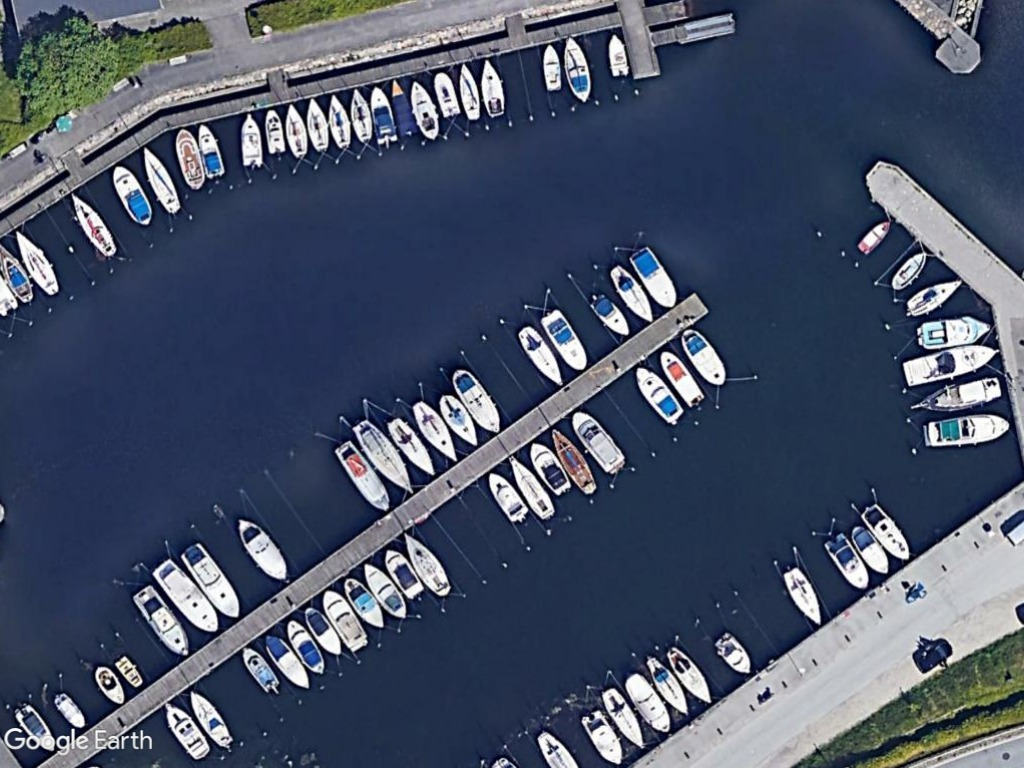boat: (149, 554, 223, 637), (175, 539, 245, 625), (128, 579, 195, 661), (350, 417, 417, 498), (896, 343, 1002, 390), (332, 440, 394, 515), (910, 372, 1008, 419), (234, 511, 294, 585), (447, 365, 506, 437), (398, 529, 454, 604), (568, 406, 625, 478), (408, 396, 465, 467), (66, 188, 121, 261), (503, 452, 558, 525), (544, 425, 599, 498), (317, 584, 373, 655), (857, 499, 916, 566), (536, 306, 593, 374), (621, 670, 677, 739), (382, 415, 441, 480), (11, 226, 63, 298), (919, 412, 1015, 451), (514, 323, 568, 392), (676, 323, 732, 388), (627, 244, 681, 311), (663, 642, 716, 709), (655, 342, 707, 410), (181, 685, 235, 750), (357, 557, 411, 622), (630, 363, 684, 428), (605, 259, 657, 326), (818, 528, 871, 593), (597, 687, 649, 753), (260, 629, 314, 692), (915, 312, 994, 354), (140, 143, 184, 218), (643, 653, 691, 719), (160, 702, 211, 764), (779, 564, 826, 631), (525, 441, 575, 501), (109, 161, 154, 227), (902, 274, 965, 321), (378, 540, 425, 602), (577, 708, 625, 768), (434, 391, 481, 452), (282, 614, 328, 676), (848, 518, 892, 581), (482, 467, 530, 524), (560, 31, 595, 109), (299, 603, 345, 662), (341, 571, 386, 631), (174, 124, 209, 194), (586, 290, 633, 340), (408, 77, 444, 142), (238, 645, 281, 695), (477, 54, 509, 120), (367, 83, 399, 149), (889, 247, 933, 295), (711, 628, 754, 677), (278, 99, 311, 159), (300, 96, 332, 155), (195, 122, 226, 181), (89, 661, 129, 706), (325, 92, 354, 153), (430, 68, 462, 123), (347, 82, 374, 146), (48, 689, 87, 733), (237, 110, 265, 170), (456, 61, 483, 123), (853, 218, 894, 258), (260, 105, 289, 160), (604, 28, 633, 80), (540, 40, 567, 95)
